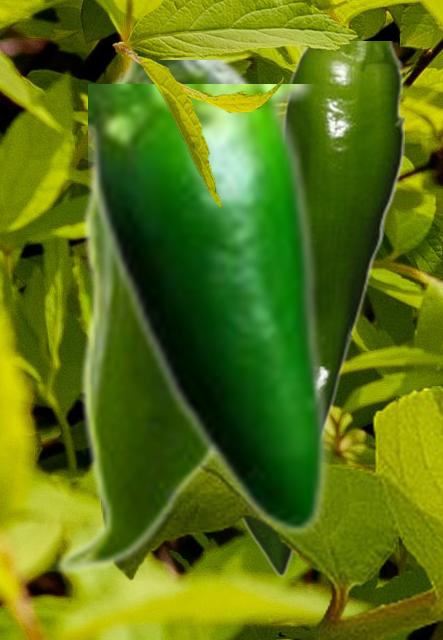green_chili: (88, 84, 329, 536), (53, 60, 257, 576), (240, 41, 403, 576)
